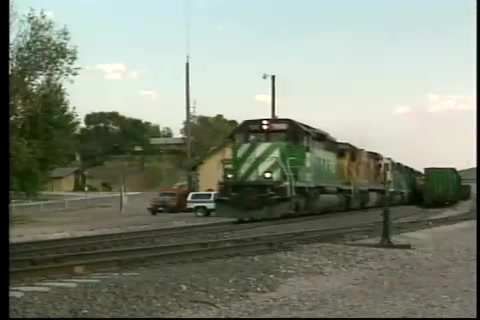train: (215, 120, 422, 219)
